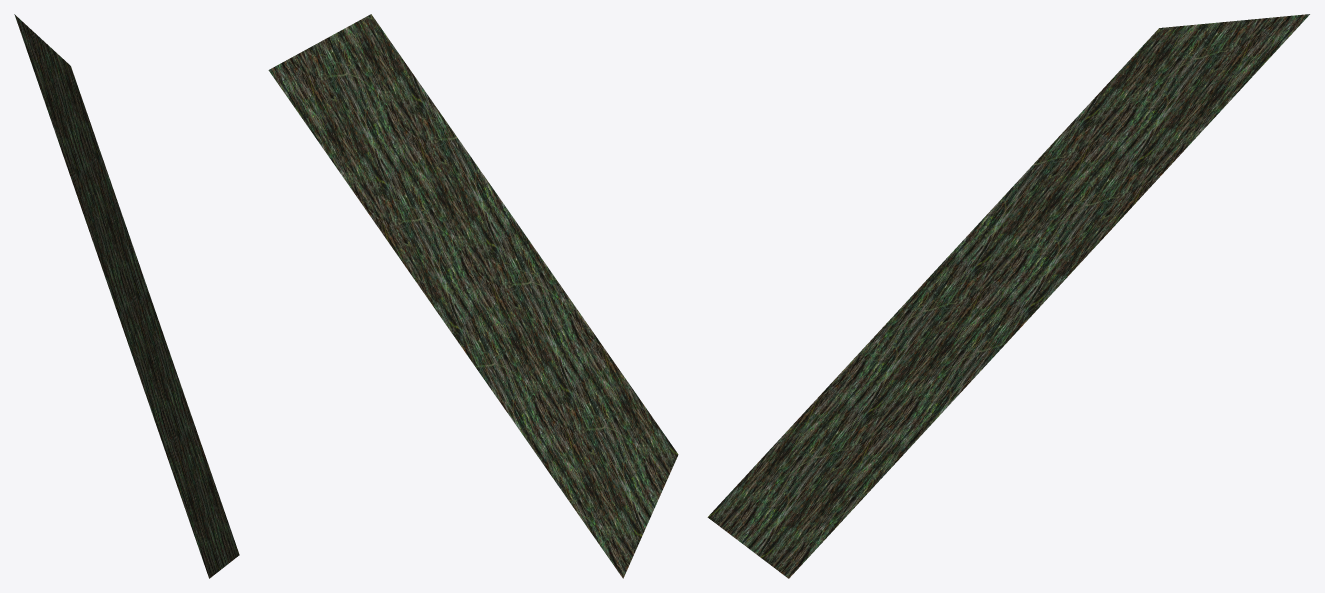
The model's file is decd_dath_overgrownbranch_a1_l2.fbx.
3 renders of one model, left to right at view 1: azimuth 30°, elevation 25°; view 2: azimuth 150°, elevation 25°; view 3: azimuth 270°, elevation 25°, orthographic. The views are drawn at different scales.
Visible parts, largest first — view 1: mesh_node; view 2: mesh_node; view 3: mesh_node.
Part boxes in pixels (box(x1,y1,x2,y2)): mesh_node: box(14, 14, 239, 578); mesh_node: box(268, 14, 678, 578); mesh_node: box(707, 14, 1309, 578).
Size of the model in its own units: 0 by 11.76 by 11.37.
1 material, 1 textured.
